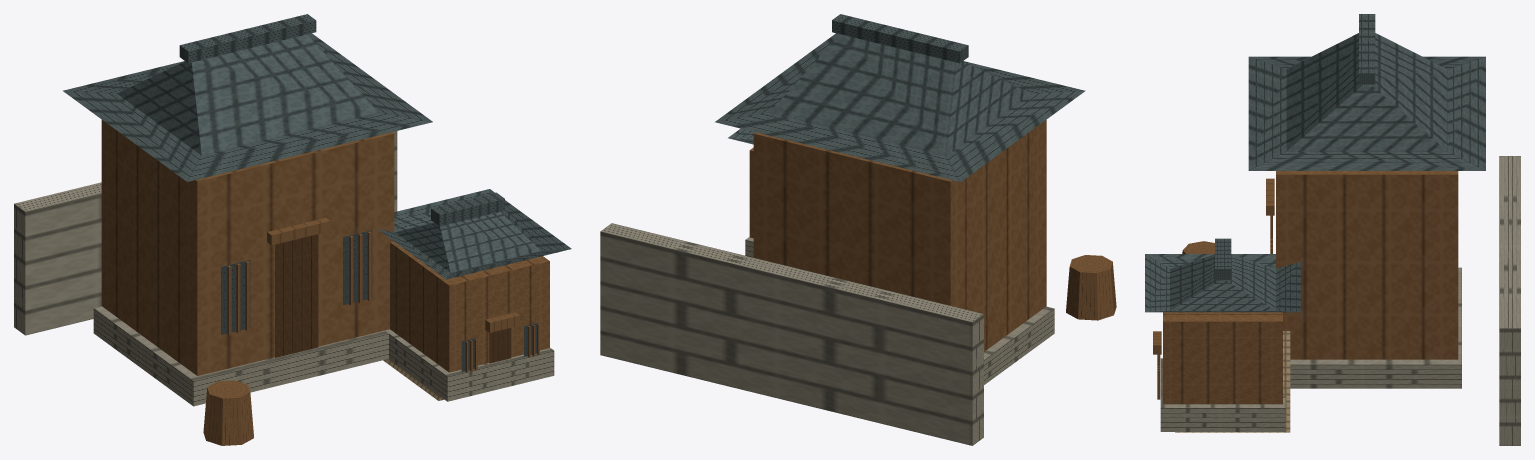
Rendered from domestic-BARRACKS-3-lod1.glb.
3 renders of one model, left to right at view 1: azimuth 30°, elevation 25°; view 2: azimuth 150°, elevation 25°; view 3: azimuth 270°, elevation 25°, orthographic. The views are drawn at different scales.
Size of the model in its own units: 0.85 by 0.691 by 0.7825.
Materials: 1 (1 with a texture image).
